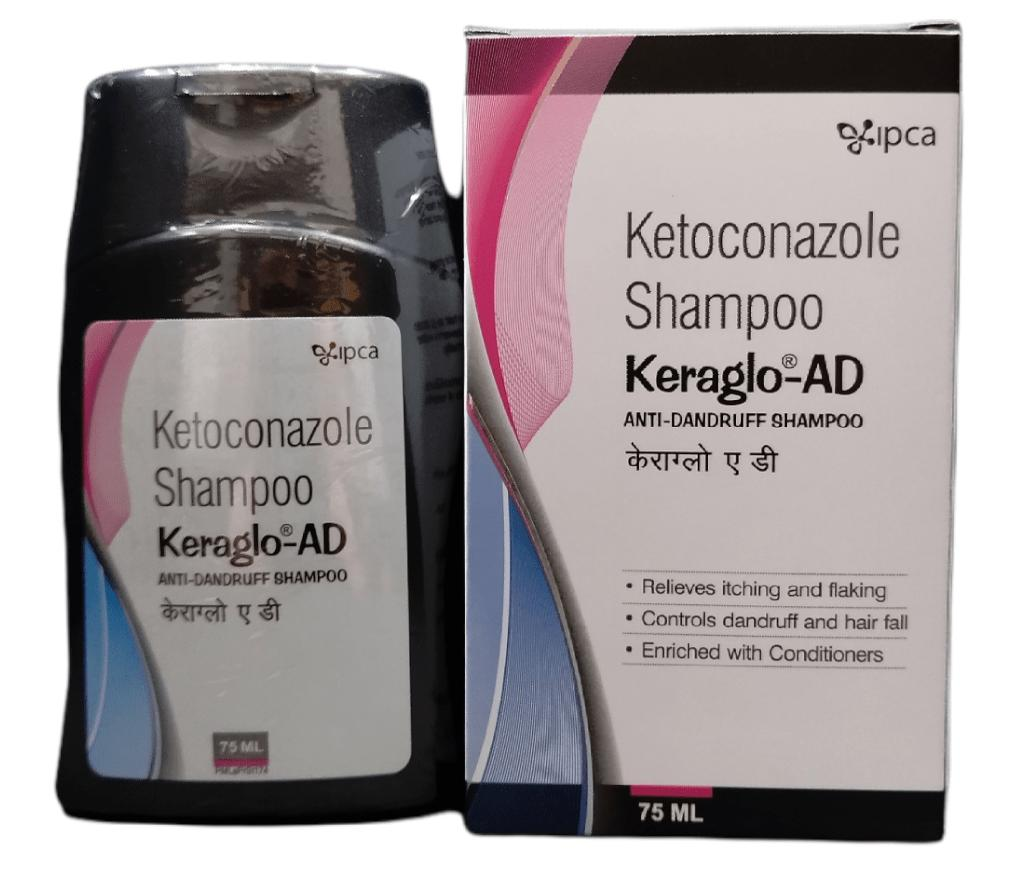KeraGlo: (53, 71, 467, 830)
